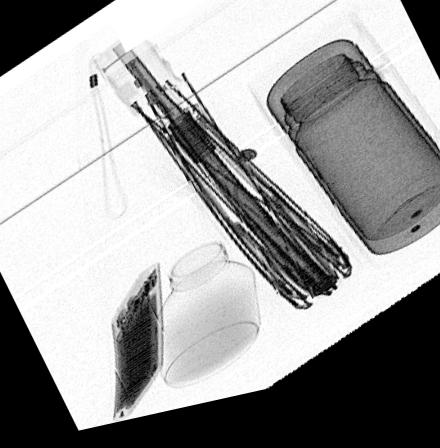Powerbank: (110, 268, 166, 427)
